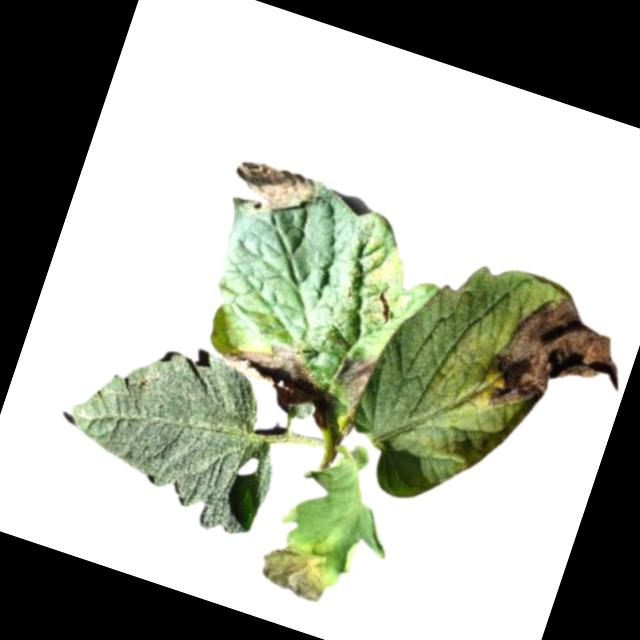Late_blight: (476, 280, 635, 446), (210, 326, 324, 416), (226, 153, 321, 226), (254, 531, 338, 603), (324, 343, 385, 418)
